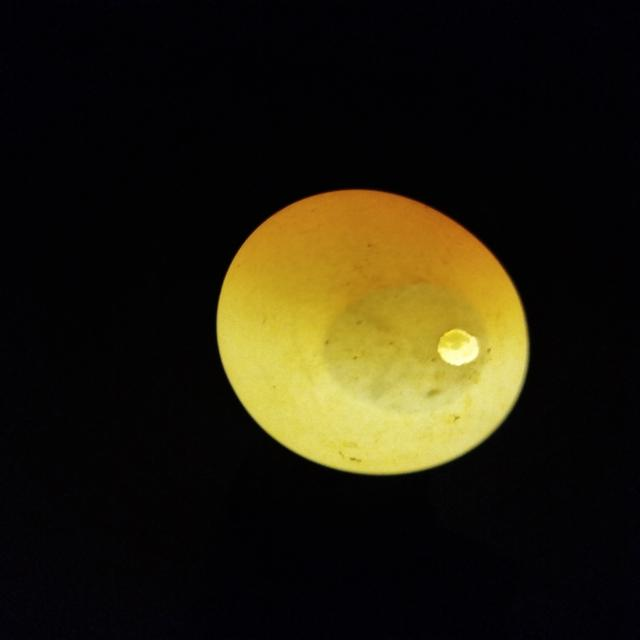Camara de Ar: (326, 285, 491, 412)
